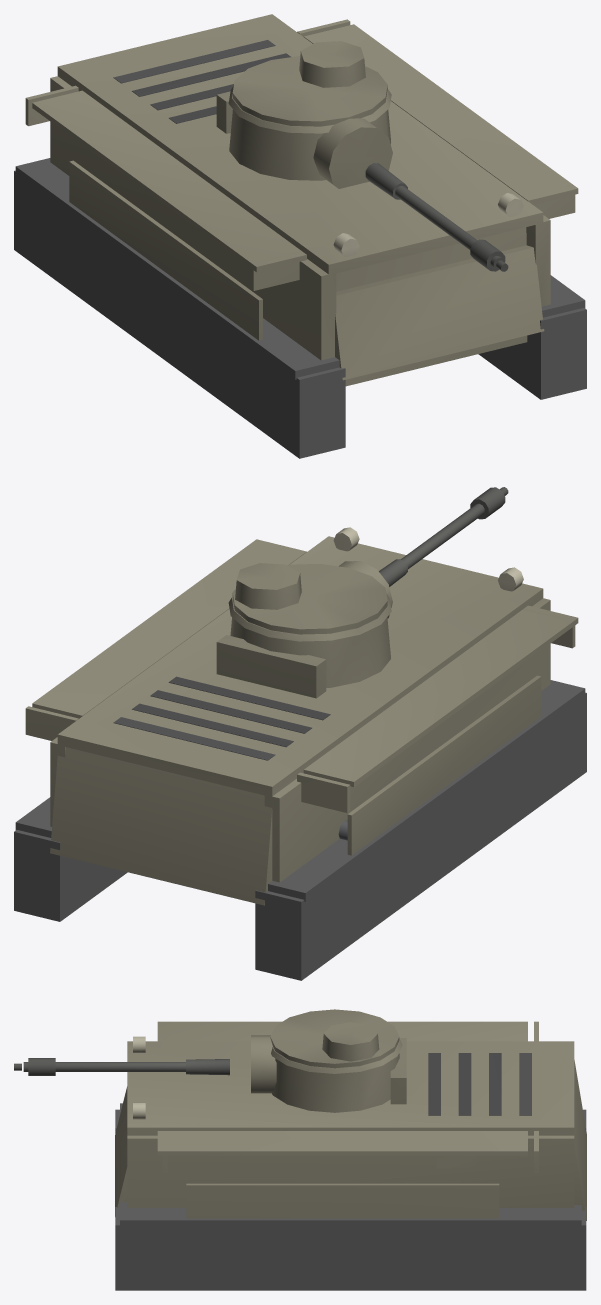
File: matilda.glb
3 renders of one model, top to bottom at view 1: azimuth 30°, elevation 25°; view 2: azimuth 150°, elevation 25°; view 3: azimuth 270°, elevation 25°, orthographic. The views are drawn at different scales.
Parts seen in each view (by area): view 1: hullSide, hullTop, tracks, lowerPlate, turretRoof, glacis, turretFront, mantlet, barrel, turretSide, turretRear; view 2: hullSide, hullTop, tracks, hullRear, turretRoof, turretFront, turretRear, barrel, turretSide; view 3: hullSide, tracks, hullTop, turretRoof, turretFront, barrel, hullRear, mantlet, lowerPlate, turretSide, turretRear.
Boxes of the visible parts, <box> form: hullSide: <box>25,19,578,360</box>; hullTop: <box>57,14,543,274</box>; tracks: <box>14,158,586,458</box>; lowerPlate: <box>335,245,544,380</box>; turretRoof: <box>232,41,387,126</box>; glacis: <box>336,227,527,386</box>; turretFront: <box>229,109,390,180</box>; mantlet: <box>313,118,392,188</box>; barrel: <box>365,163,508,271</box>; turretSide: <box>228,86,391,133</box>; turretRear: <box>216,91,232,133</box>; hullSide: <box>25,527,578,882</box>; hullTop: <box>57,536,543,797</box>; tracks: <box>14,680,586,980</box>; hullRear: <box>50,747,273,905</box>; turretRoof: <box>232,563,387,634</box>; turretFront: <box>230,617,390,687</box>; turretRear: <box>216,635,326,698</box>; barrel: <box>379,487,508,586</box>; turretSide: <box>228,594,391,641</box>; hullSide: <box>127,1021,574,1218</box>; tracks: <box>115,1103,586,1290</box>; hullTop: <box>127,1041,574,1135</box>; turretRoof: <box>270,1009,399,1068</box>; turretFront: <box>271,1053,399,1112</box>; barrel: <box>14,1058,229,1075</box>; hullRear: <box>570,1060,586,1220</box>; mantlet: <box>251,1035,276,1093</box>; lowerPlate: <box>115,1086,127,1216</box>; turretSide: <box>271,1039,402,1073</box>; turretRear: <box>390,1038,406,1104</box>.
Bounding box in the file's own units: 3.84 × 2.93 × 7.18.
